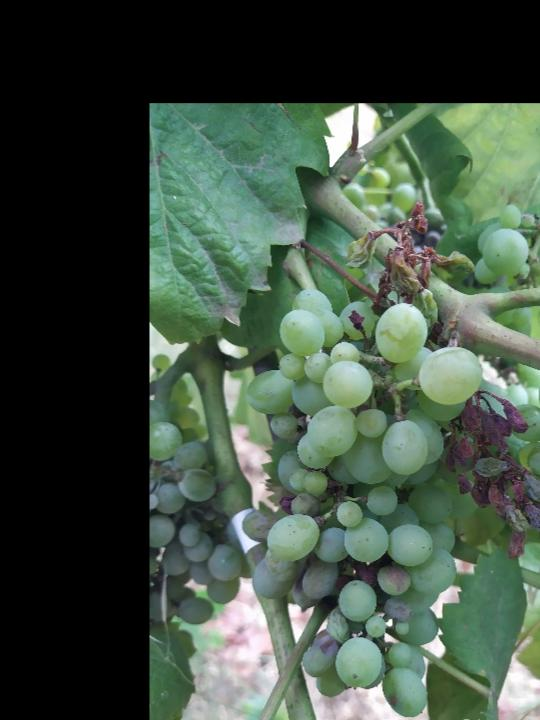grape: (236, 240, 488, 720)
